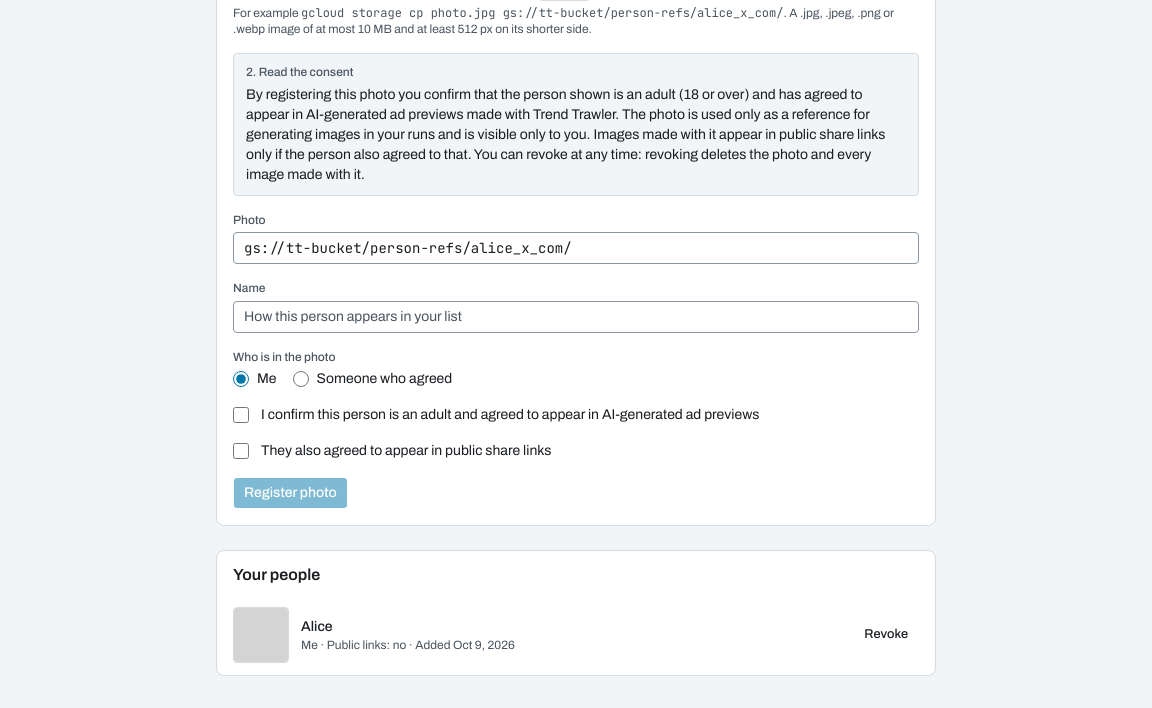
Test: PeoplePage › keeps the row with an error when the revoke is incomplete
(page scrolled)
Click the button with aria-label "Revoke Alice": (886, 635) top-left (853, 621), bottom-right (919, 649)
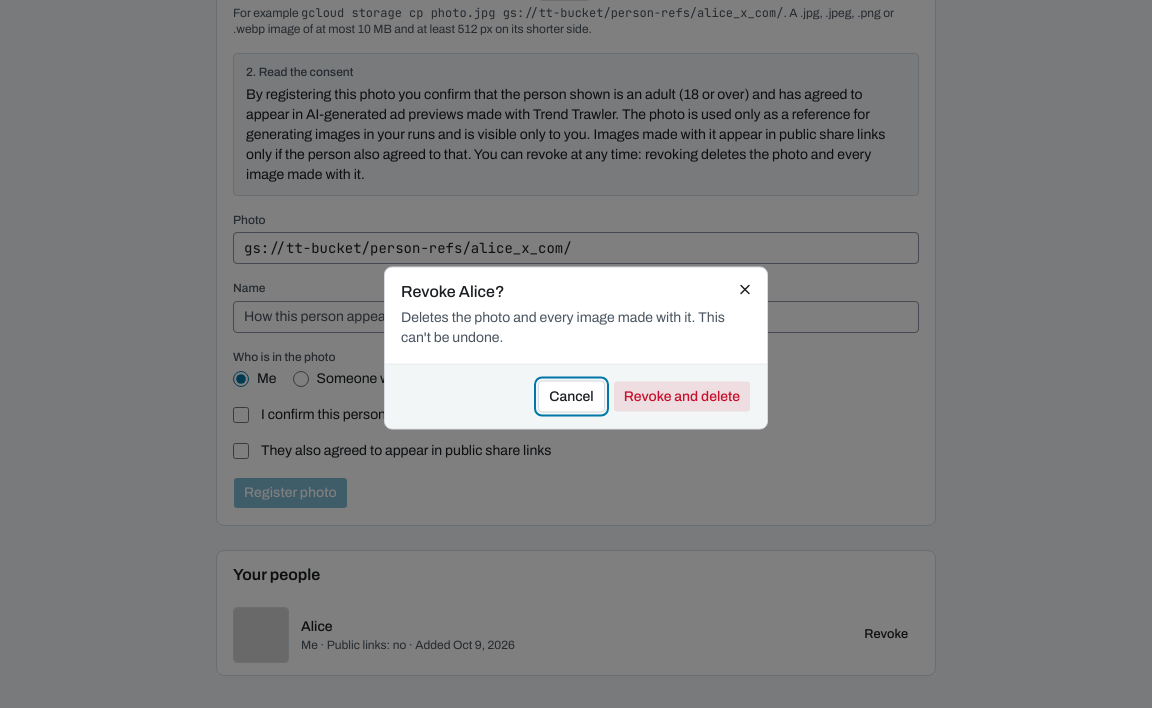
Click the button "Revoke and delete": (682, 396) top-left (613, 380), bottom-right (751, 412)
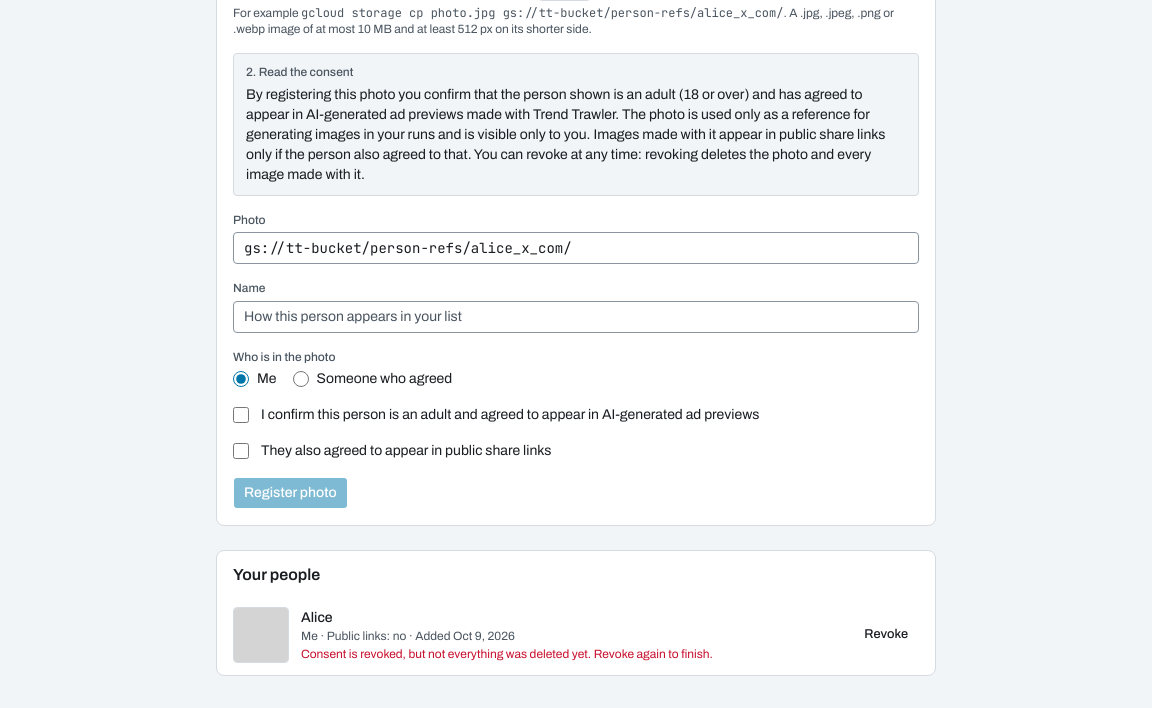
Check: the message shows "Revoke again to finish", box top-left (301, 647), bottom-right (713, 661)
